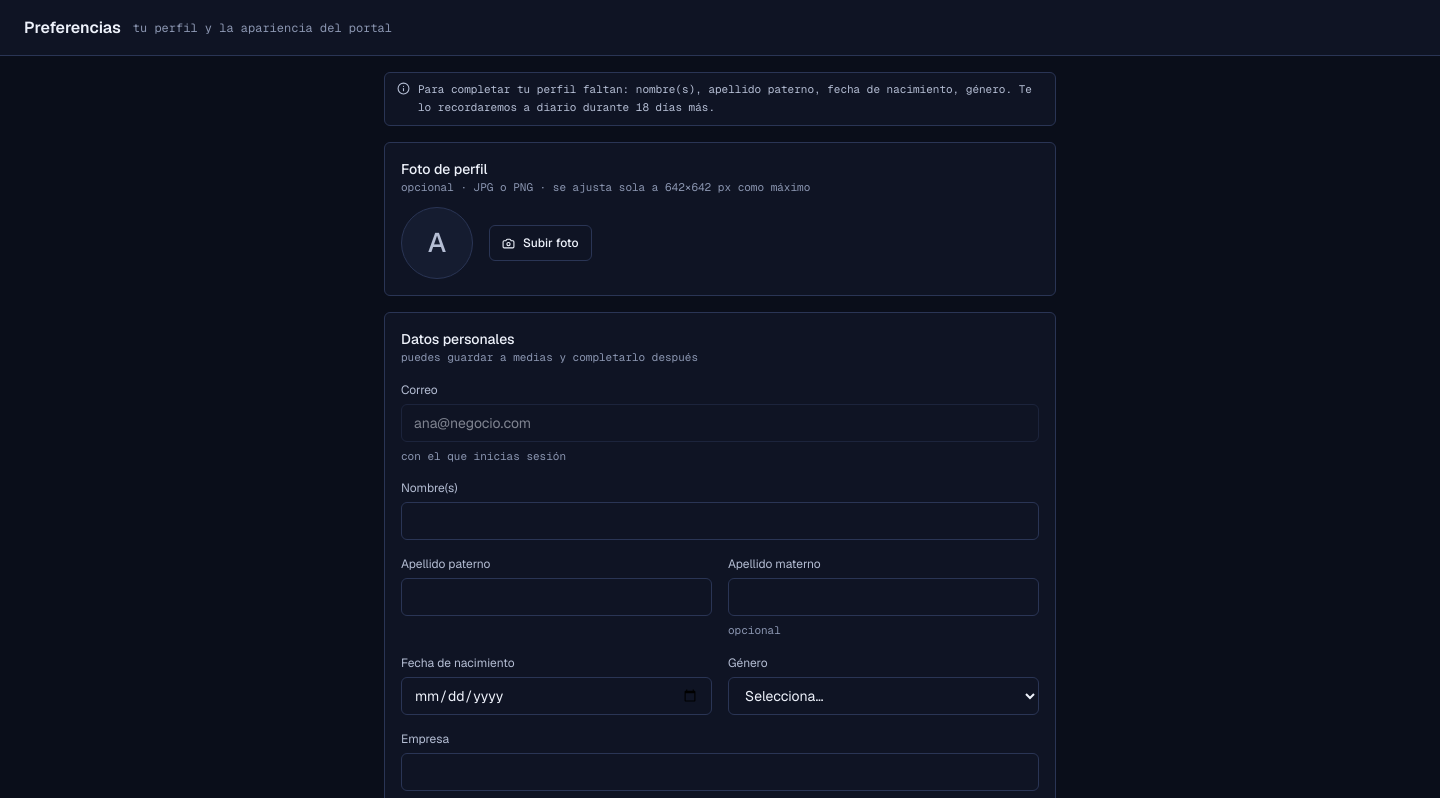
Scenario: guarda el perfil con los opcionales vacíos como null y refresca el sidebar
Type "  María José " into the field labelled "Nombre(s)" at (720, 521), box [401,502,1039,540]
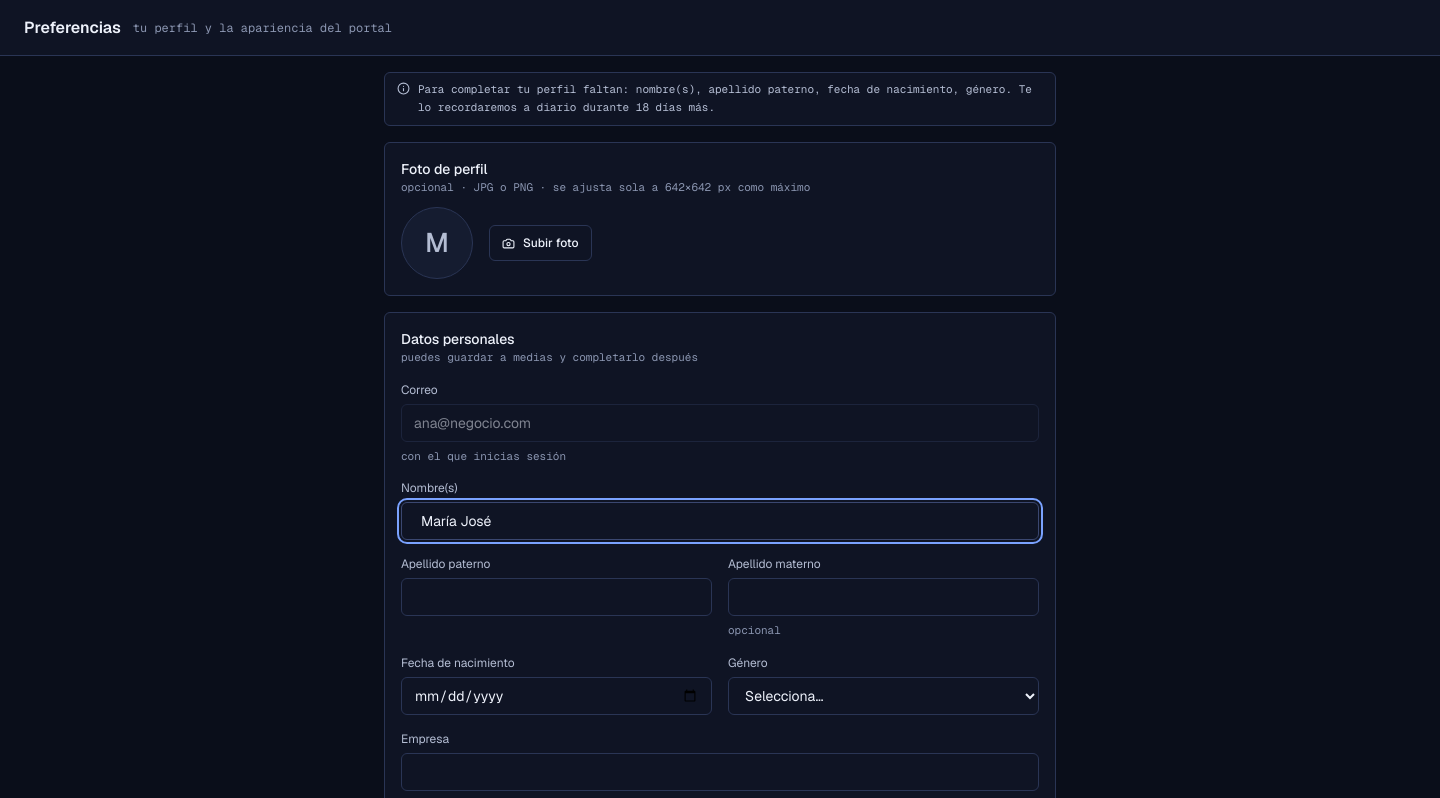
Type "Pérez" into the field labelled "Apellido paterno" at (556, 597), box [401,578,712,616]
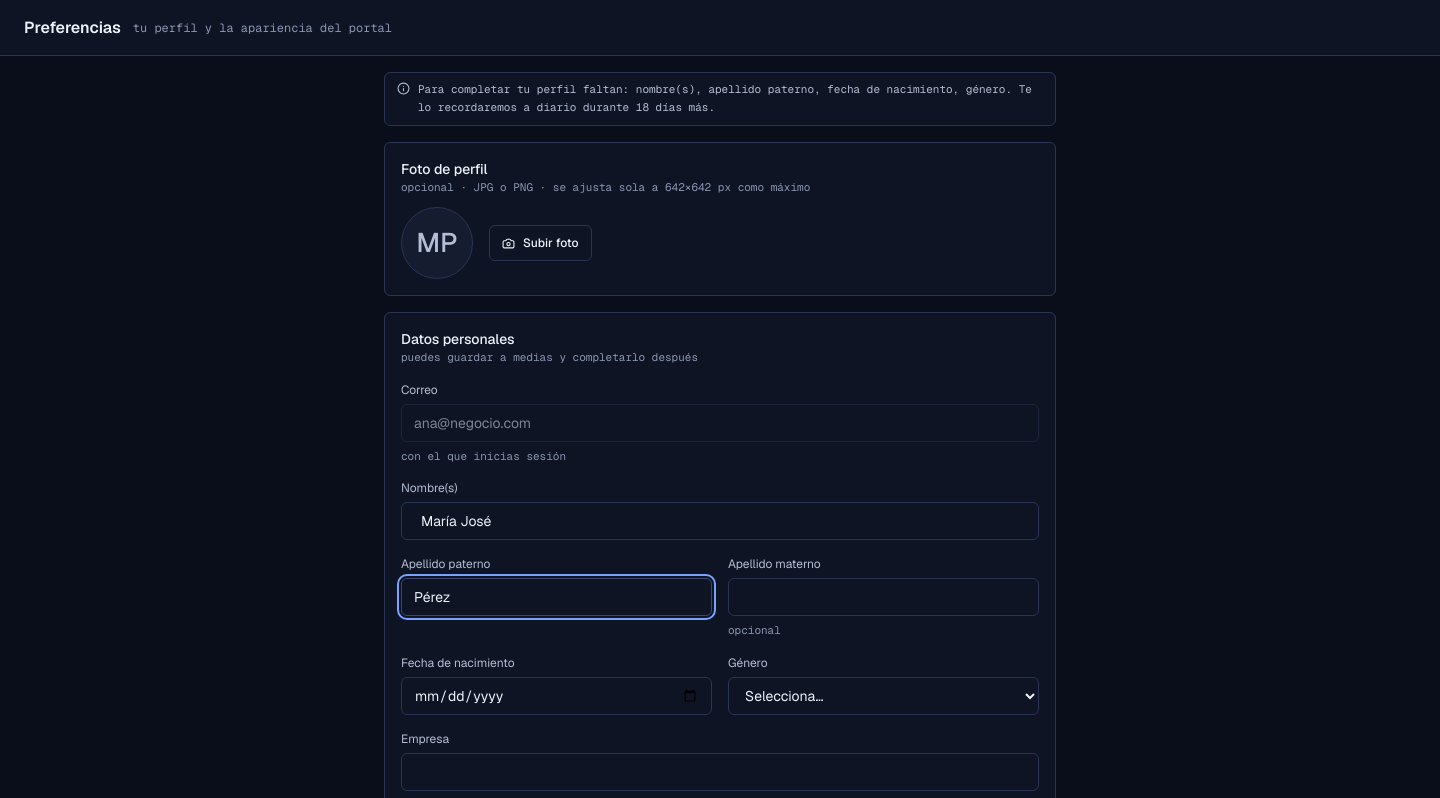
Type "1990-05-17" into the date field labelled "Fecha de nacimiento" at (556, 696), box [401,677,712,715]
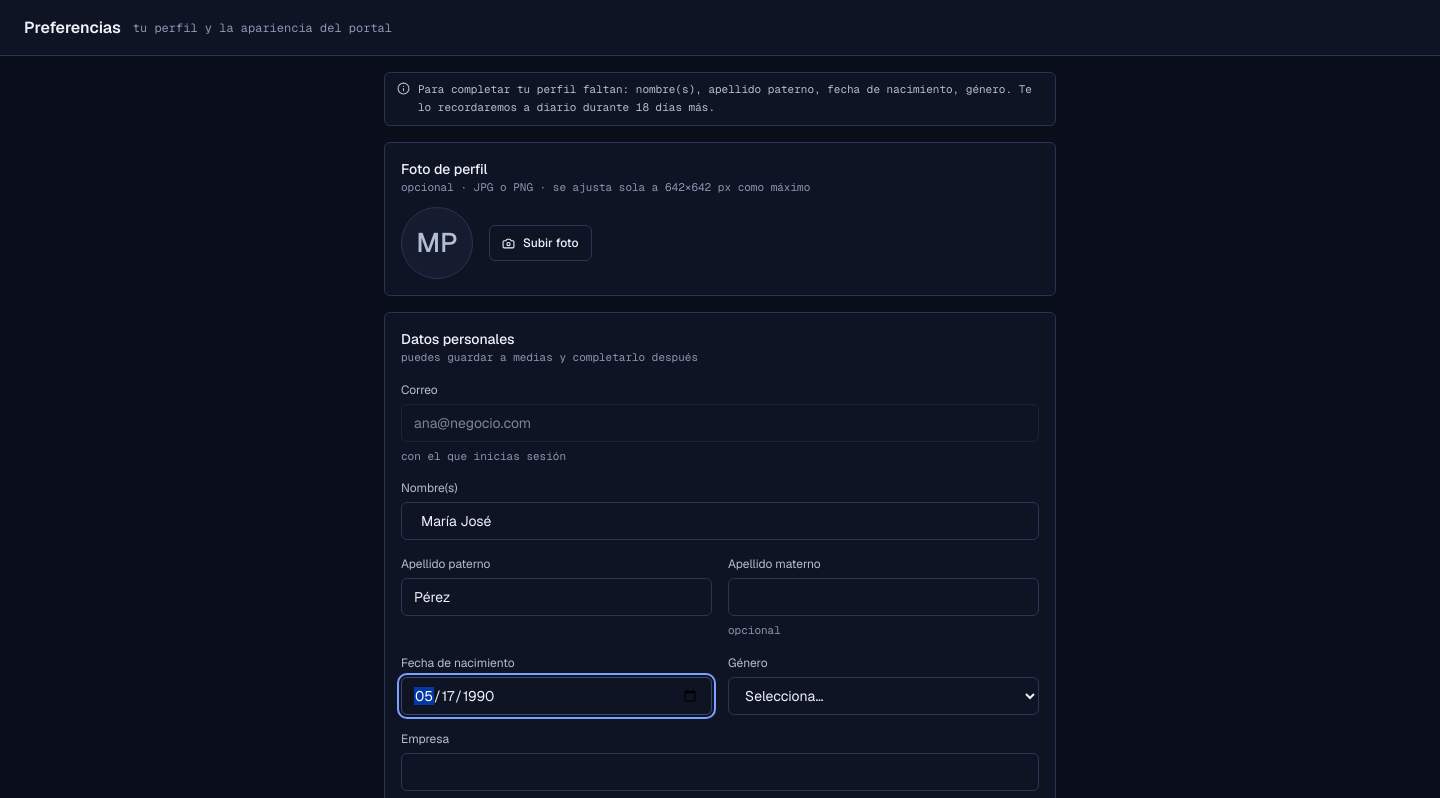
Select "Prefiero no decirlo" in the dropdown labelled "Género" at (884, 696), box [728,677,1039,715]
(page scrolled)
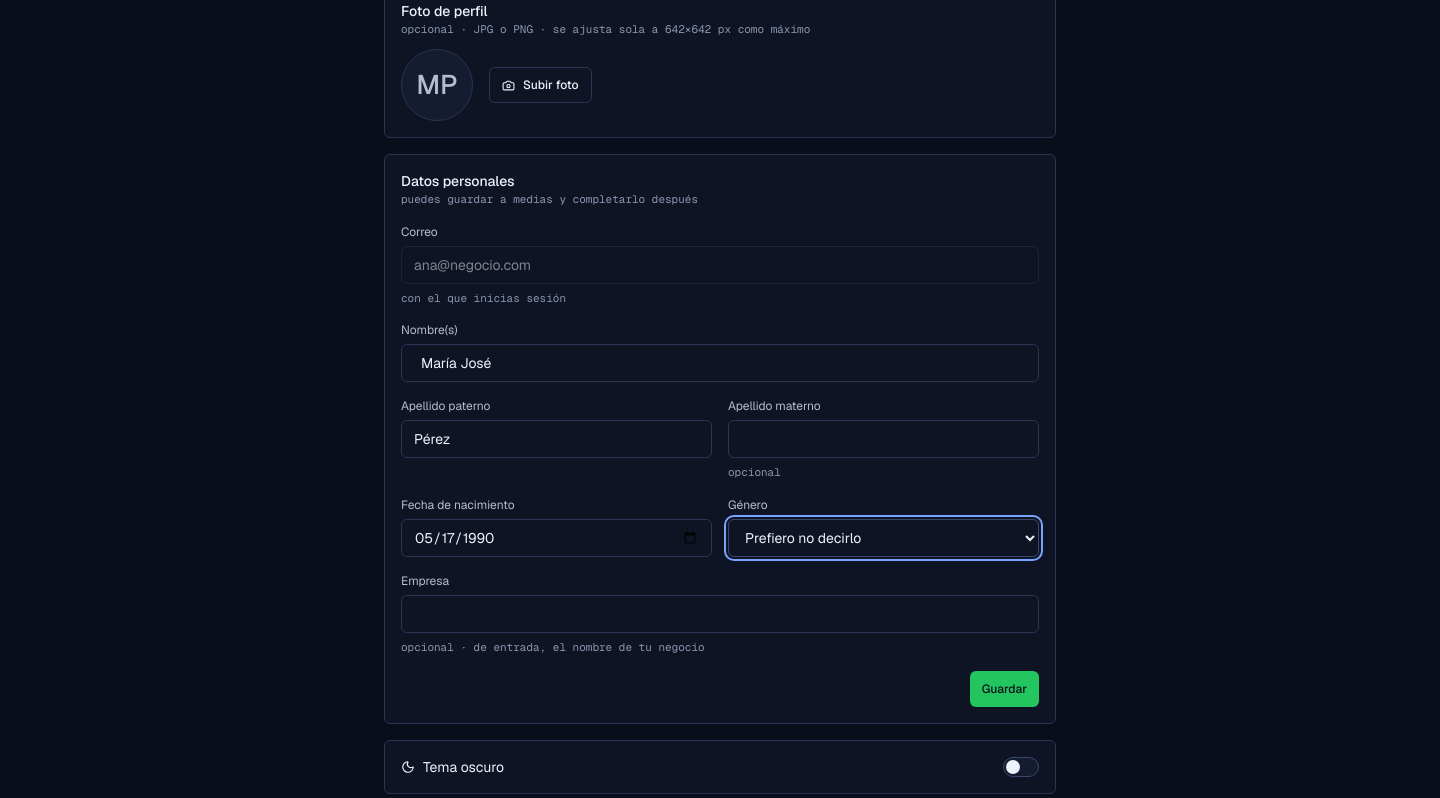
Click the button "Guardar" at (1004, 689), box [970,671,1039,707]
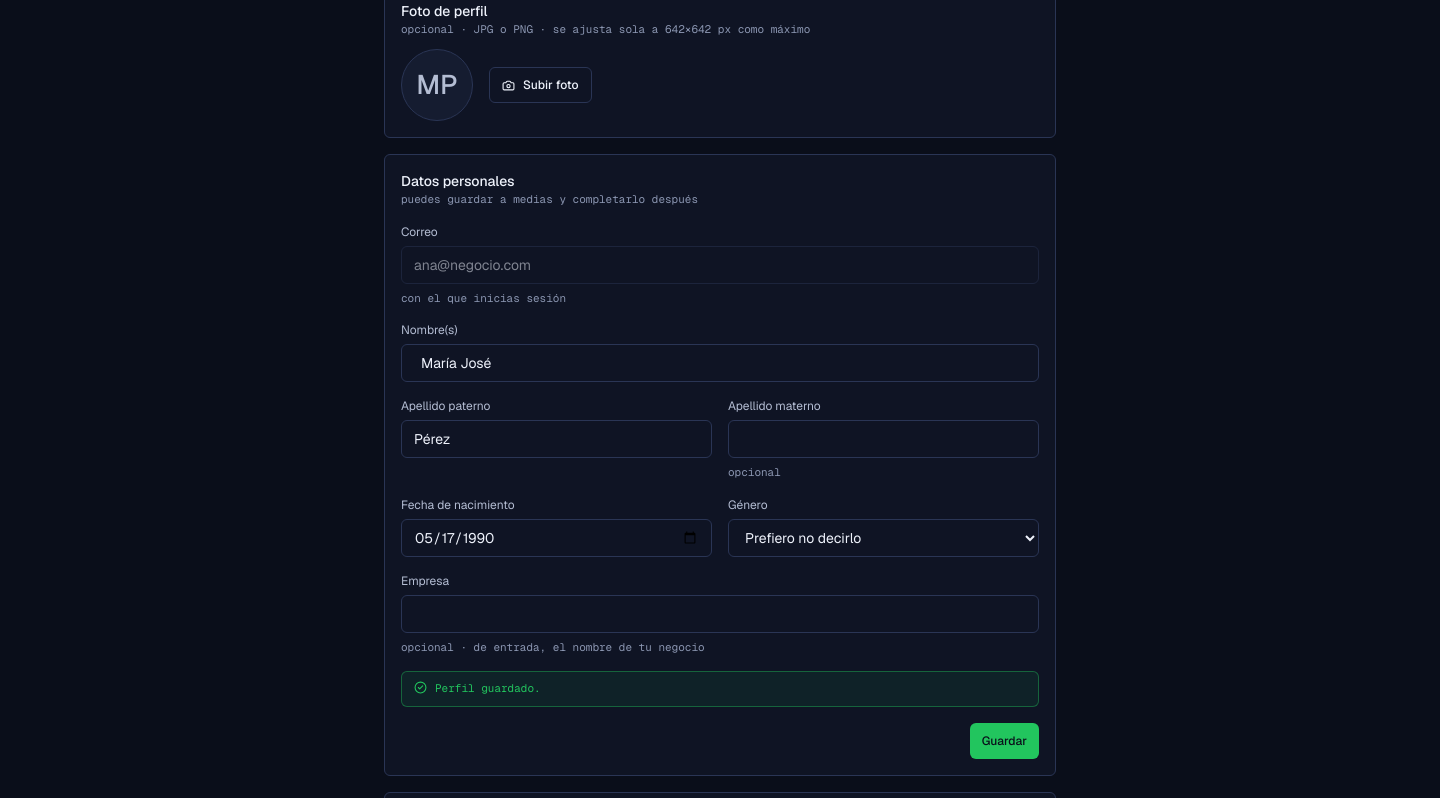
expect the text "Perfil guardado." is shown: met, box [435,681,541,695]
